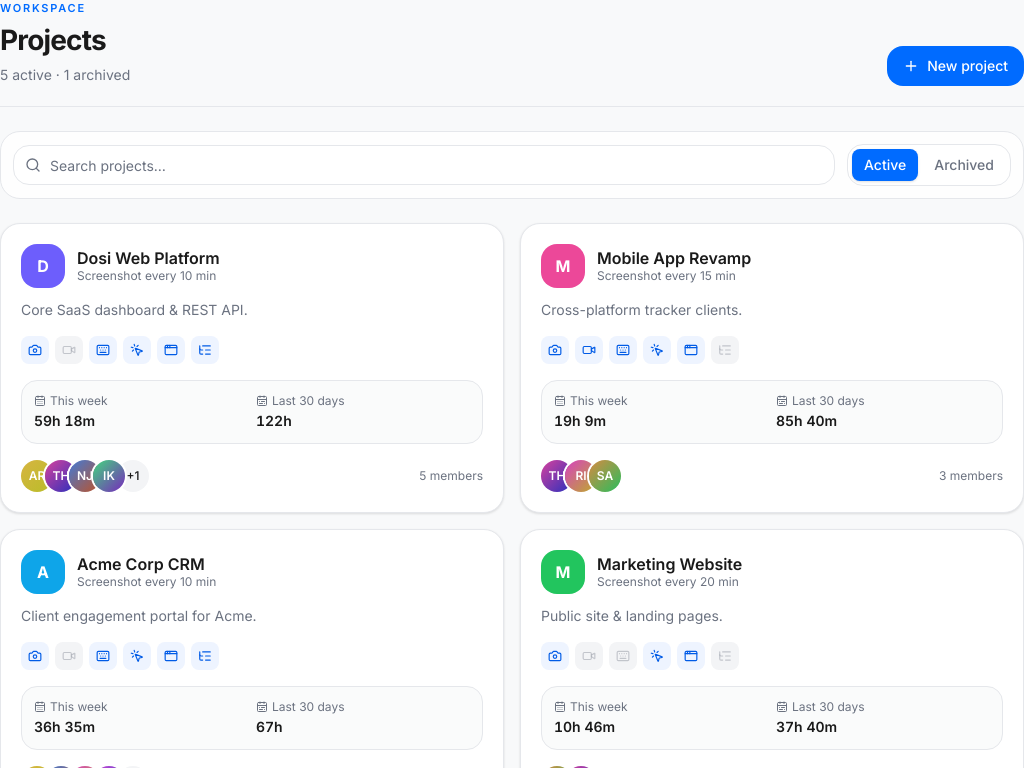
Test case: projects page — create project (owner, demo mode) › the New project button opens the create wizard on its Details step
The width and height of the screenshot is (1024, 768).
Click the button "New project" at (956, 66), box [887,46,1023,86]
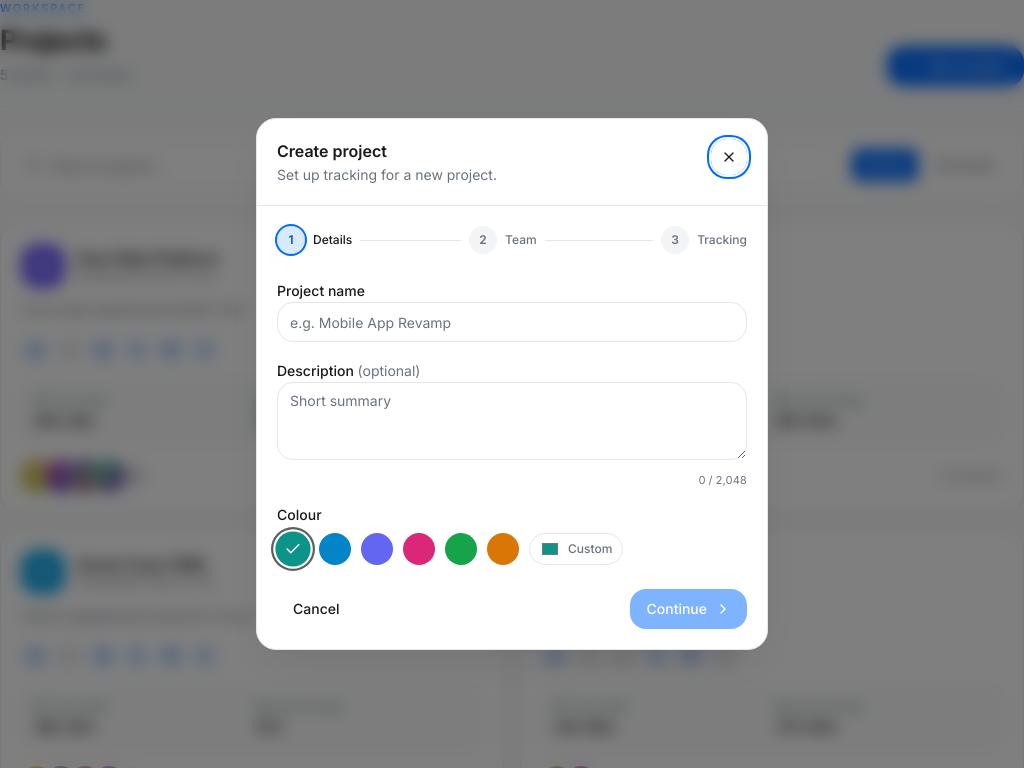
Expected: the heading "Create project" is shown, [277,141,387,161]
Expected: the text "Project name" is shown, [277,282,365,299]
Expected: the field with placeholder "e.g. Mobile App Revamp" is shown, [277,302,747,342]
